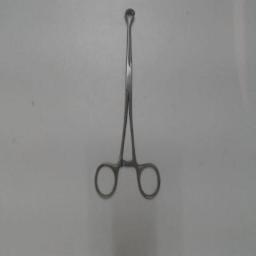Babcock Tissue Forceps: (93, 6, 163, 200)
